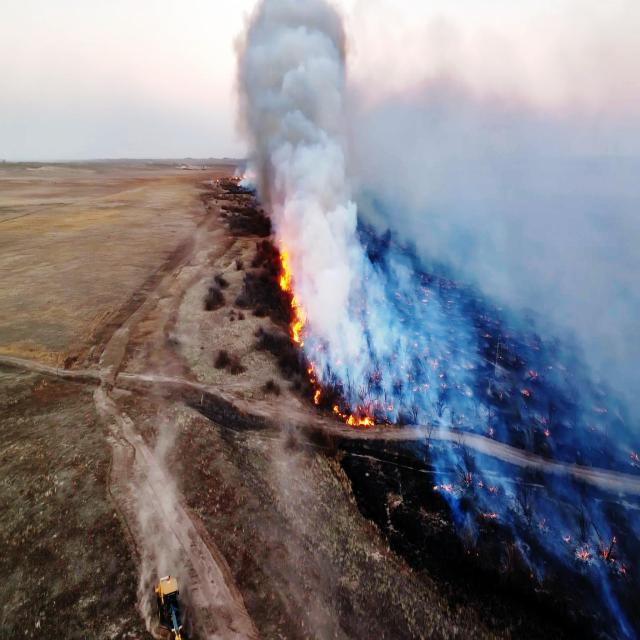Fire: (280, 248, 302, 346)
Smoke: (260, 0, 346, 210), (298, 248, 358, 363), (284, 190, 348, 242)
